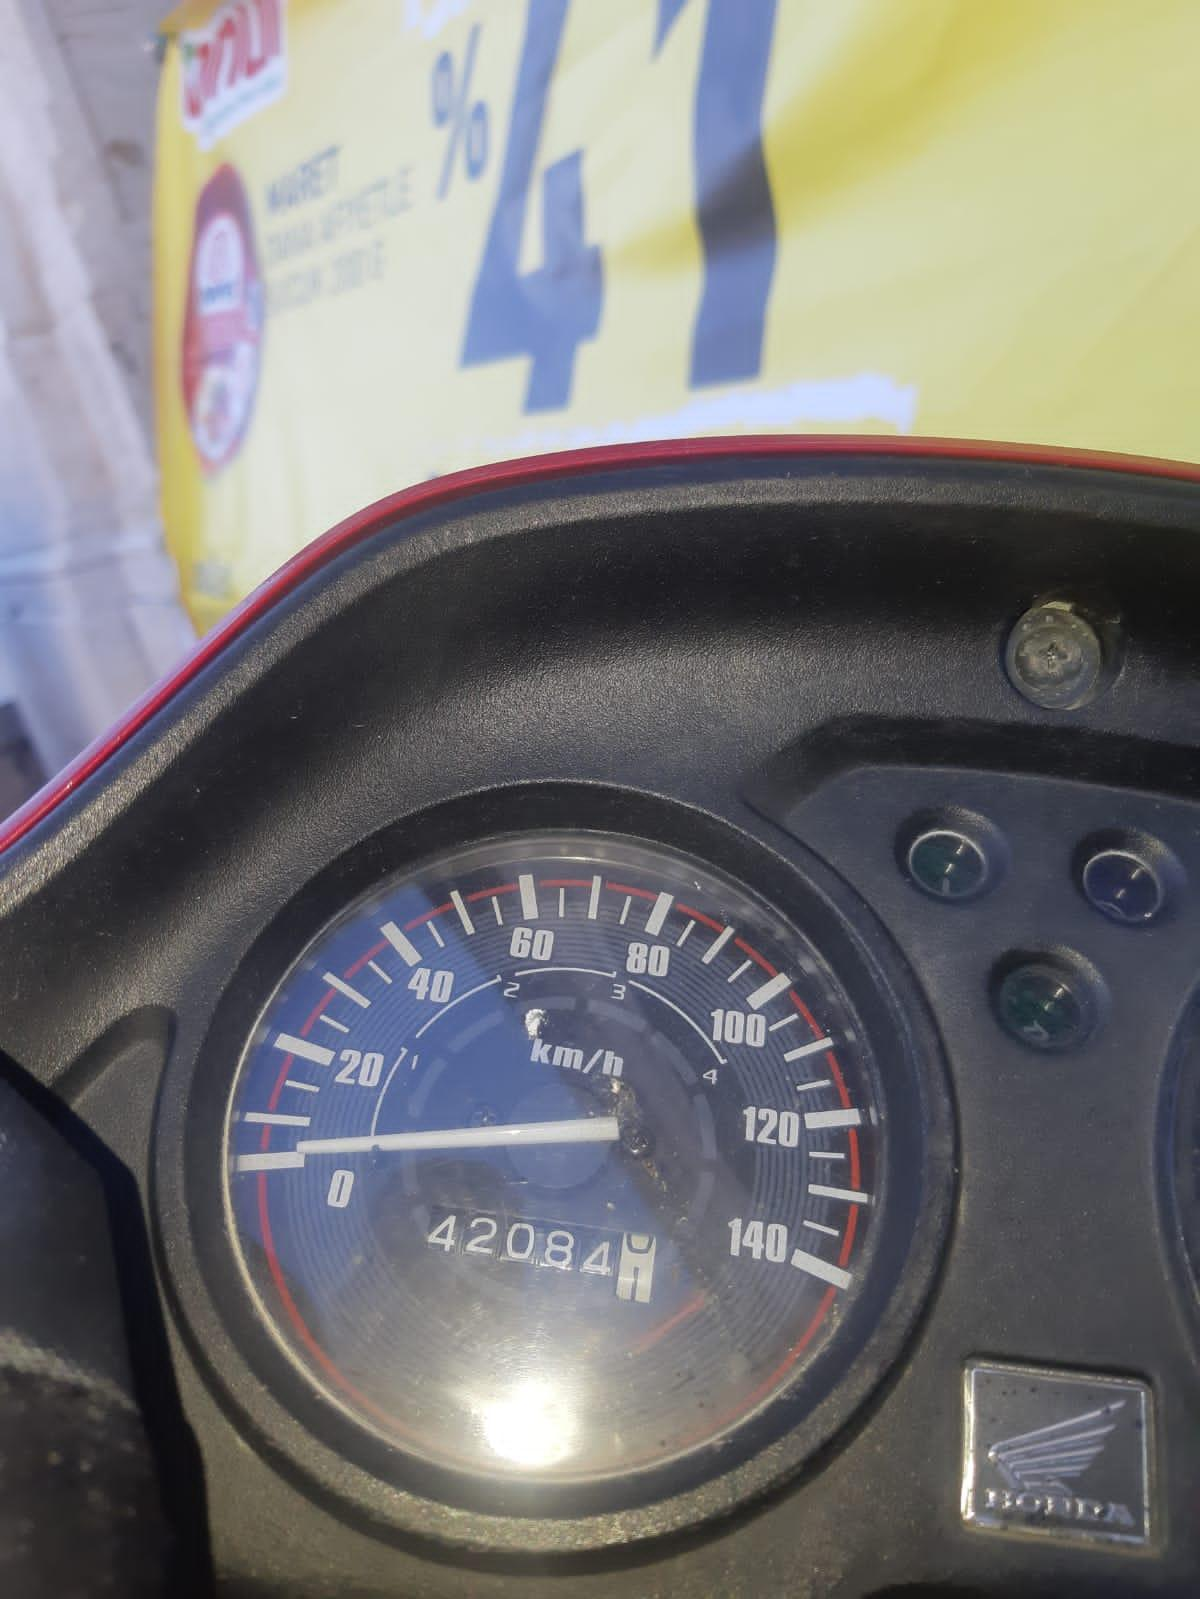0: (505, 1221, 534, 1259)
1: (629, 1265, 639, 1302)
2: (464, 1216, 497, 1252)
4: (426, 1213, 456, 1251), (581, 1240, 611, 1275)
8: (545, 1229, 574, 1268)
odometer: (421, 1202, 659, 1309)
